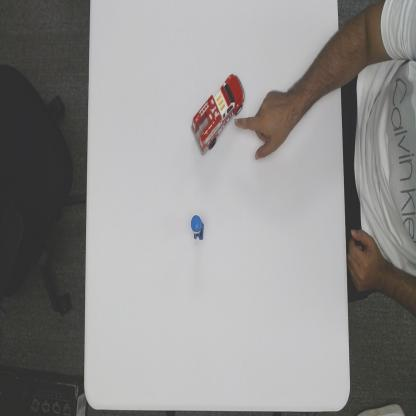Arm: (289, 27, 340, 144)
Firetruck: (191, 71, 246, 157)
Hand: (233, 88, 290, 163)
